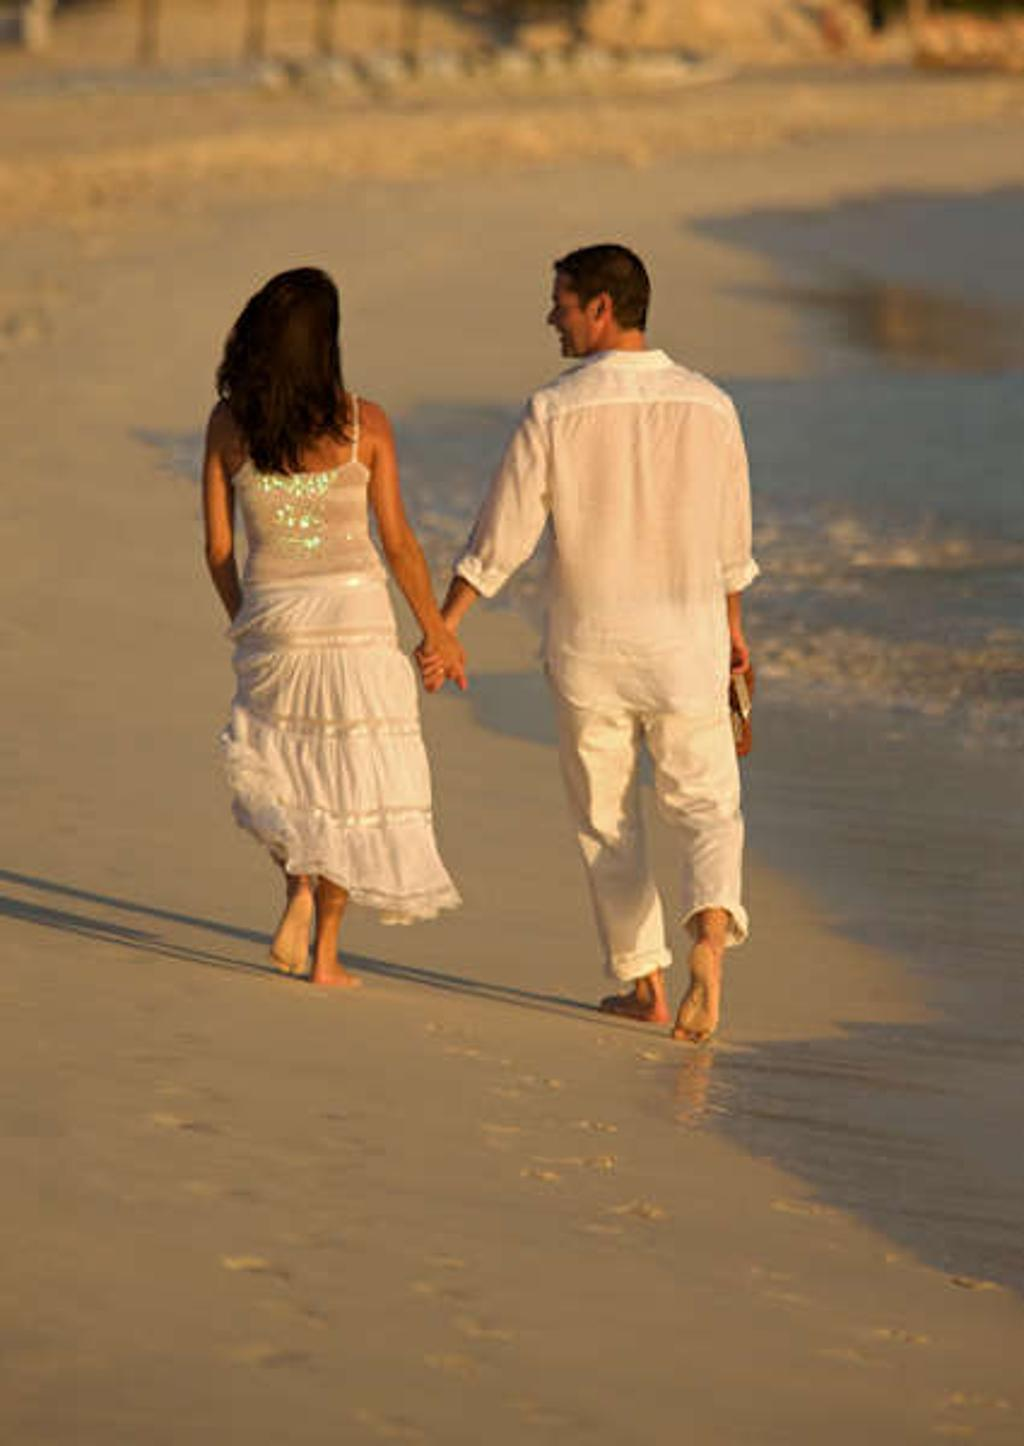face: (546, 271, 593, 357)
